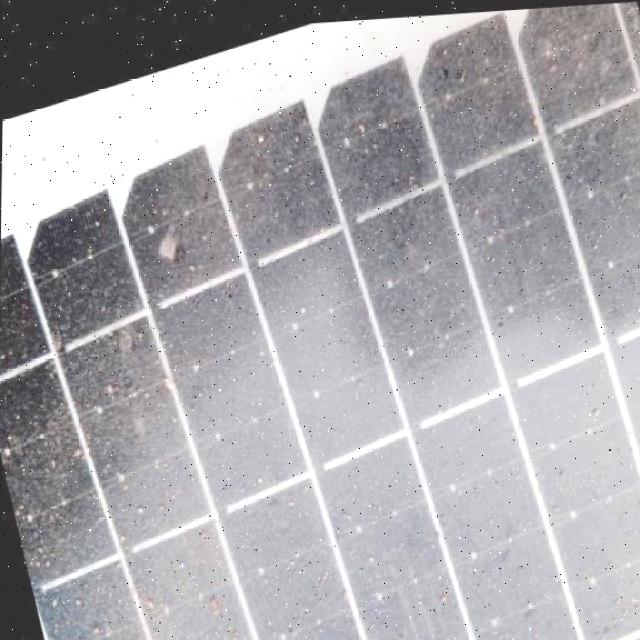Surface Contaminant: (0, 1, 640, 640)
